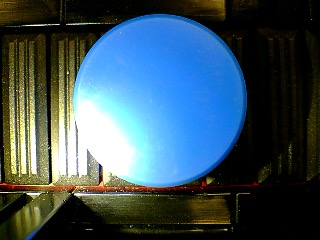BLANK: (73, 14, 247, 187)
